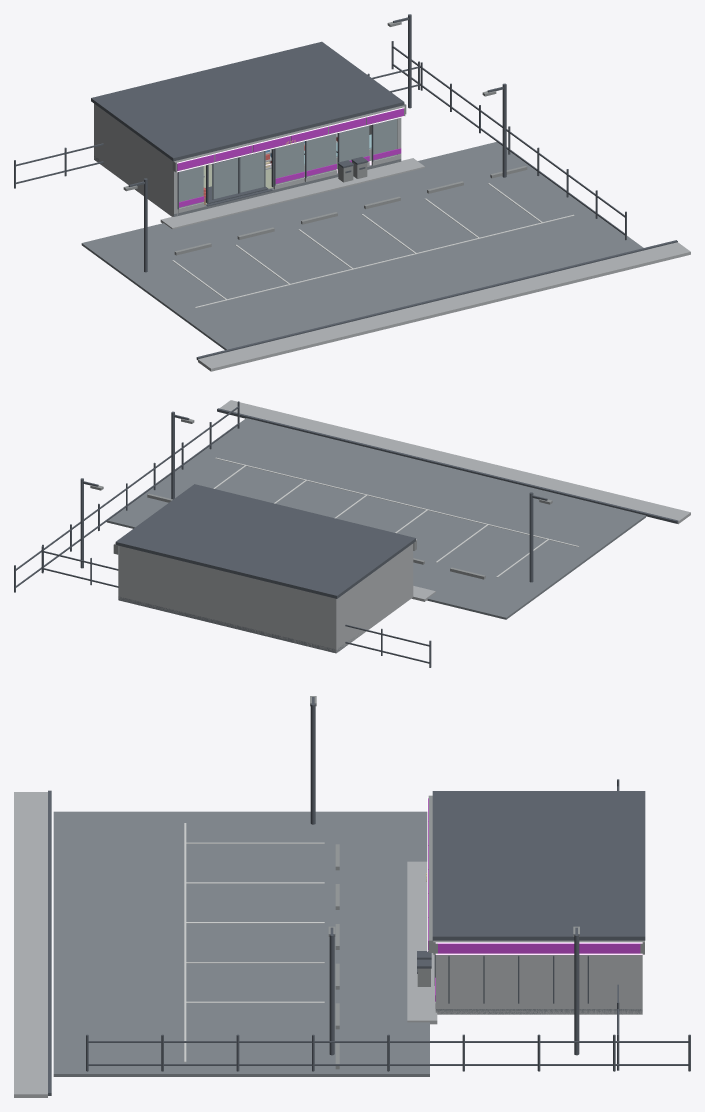
File: convenience_store_graybox.glb
The picture shows the model from 3 angles, top to bottom: view 1: azimuth 30°, elevation 25°; view 2: azimuth 150°, elevation 25°; view 3: azimuth 270°, elevation 25°; orthographic projection. The views are drawn at different scales.
Parts seen in each view (by area): view 1: Parking lot | asphalt, Store | roof slab, Sidewalk, Store | left wall, Store apron, Road edge, Front glazing 03, Entrance | glass sliding leaf 2, Front glazing 02, Front glazing 04, Sign fascia | front, Entrance | glass sliding leaf 1 (+6 smaller); view 2: Parking lot | asphalt, Store | roof slab, Store | rear wall, Sidewalk, Store | left wall, Road edge, Store | foundation, Parking bay front boundary, Fence rail right.001, Fence rail right, Streetlight 1 | pole; view 3: Parking lot | asphalt, Store | roof slab, Store | right wall, Sidewalk, Store apron, Sign panel | right wrap, Road edge, Fence rail right.001, Fence rail right, Store | foundation, Sign fascia | front, Sign fascia | right (+4 smaller).
Boxes of the visible parts, x1,y1,x2,y2 form: Parking lot | asphalt: [81, 142, 643, 349]; Store | roof slab: [91, 41, 404, 161]; Sidewalk: [198, 242, 690, 371]; Store | left wall: [94, 103, 177, 216]; Store apron: [160, 158, 424, 229]; Road edge: [196, 240, 677, 360]; Front glazing 03: [306, 133, 336, 176]; Entrance | glass sliding leaf 2: [239, 151, 265, 192]; Front glazing 02: [275, 141, 304, 184]; Front glazing 04: [339, 125, 369, 161]; Sign fascia | front: [172, 105, 405, 172]; Entrance | glass sliding leaf 1: [212, 158, 237, 199]; Parking lot | asphalt: [107, 418, 645, 619]; Store | roof slab: [115, 484, 415, 598]; Store | rear wall: [118, 546, 338, 652]; Sidewalk: [219, 400, 690, 524]; Store | left wall: [332, 543, 413, 652]; Road edge: [217, 408, 678, 523]; Store | foundation: [118, 596, 356, 653]; Parking bay front boundary: [215, 457, 578, 546]; Fence rail right.001: [16, 406, 238, 570]; Fence rail right: [16, 423, 238, 587]; Streetlight 1 | pole: [529, 492, 533, 582]; Parking lot | asphalt: [53, 811, 429, 1076]; Store | roof slab: [432, 791, 645, 940]; Store | right wall: [435, 955, 642, 1014]; Sidewalk: [14, 792, 47, 1097]; Store apron: [407, 861, 437, 1024]; Sign panel | right wrap: [438, 943, 640, 953]; Road edge: [48, 790, 51, 1095]; Fence rail right.001: [88, 1041, 688, 1042]; Fence rail right: [88, 1064, 688, 1065]; Store | foundation: [435, 1009, 642, 1014]; Sign fascia | front: [428, 795, 433, 952]; Sign fascia | right: [433, 940, 644, 954].
Size of the model in its own units: 38 by 7.23 by 35.97.
